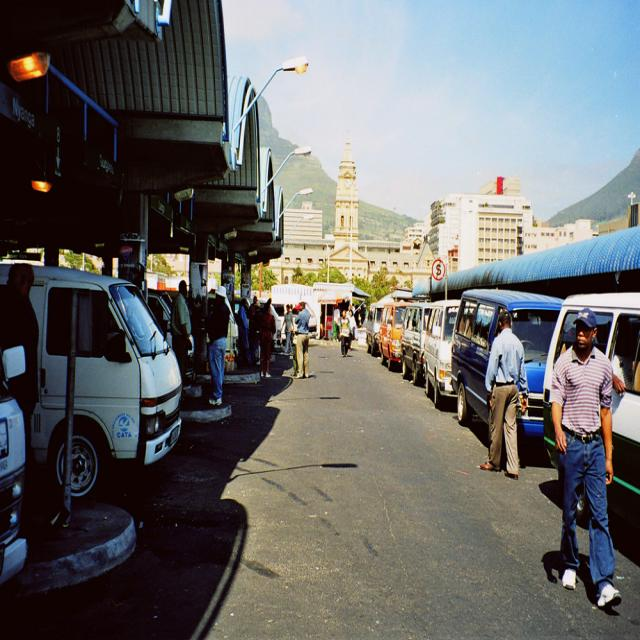MiniBus taxi: (82, 272, 181, 493)
Pedestrians: (548, 303, 626, 611), (480, 308, 530, 480)
